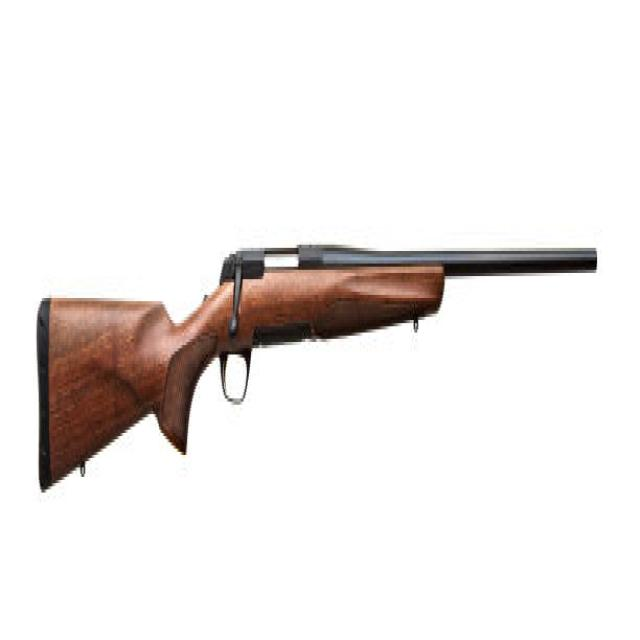rifle: (31, 216, 607, 519)
